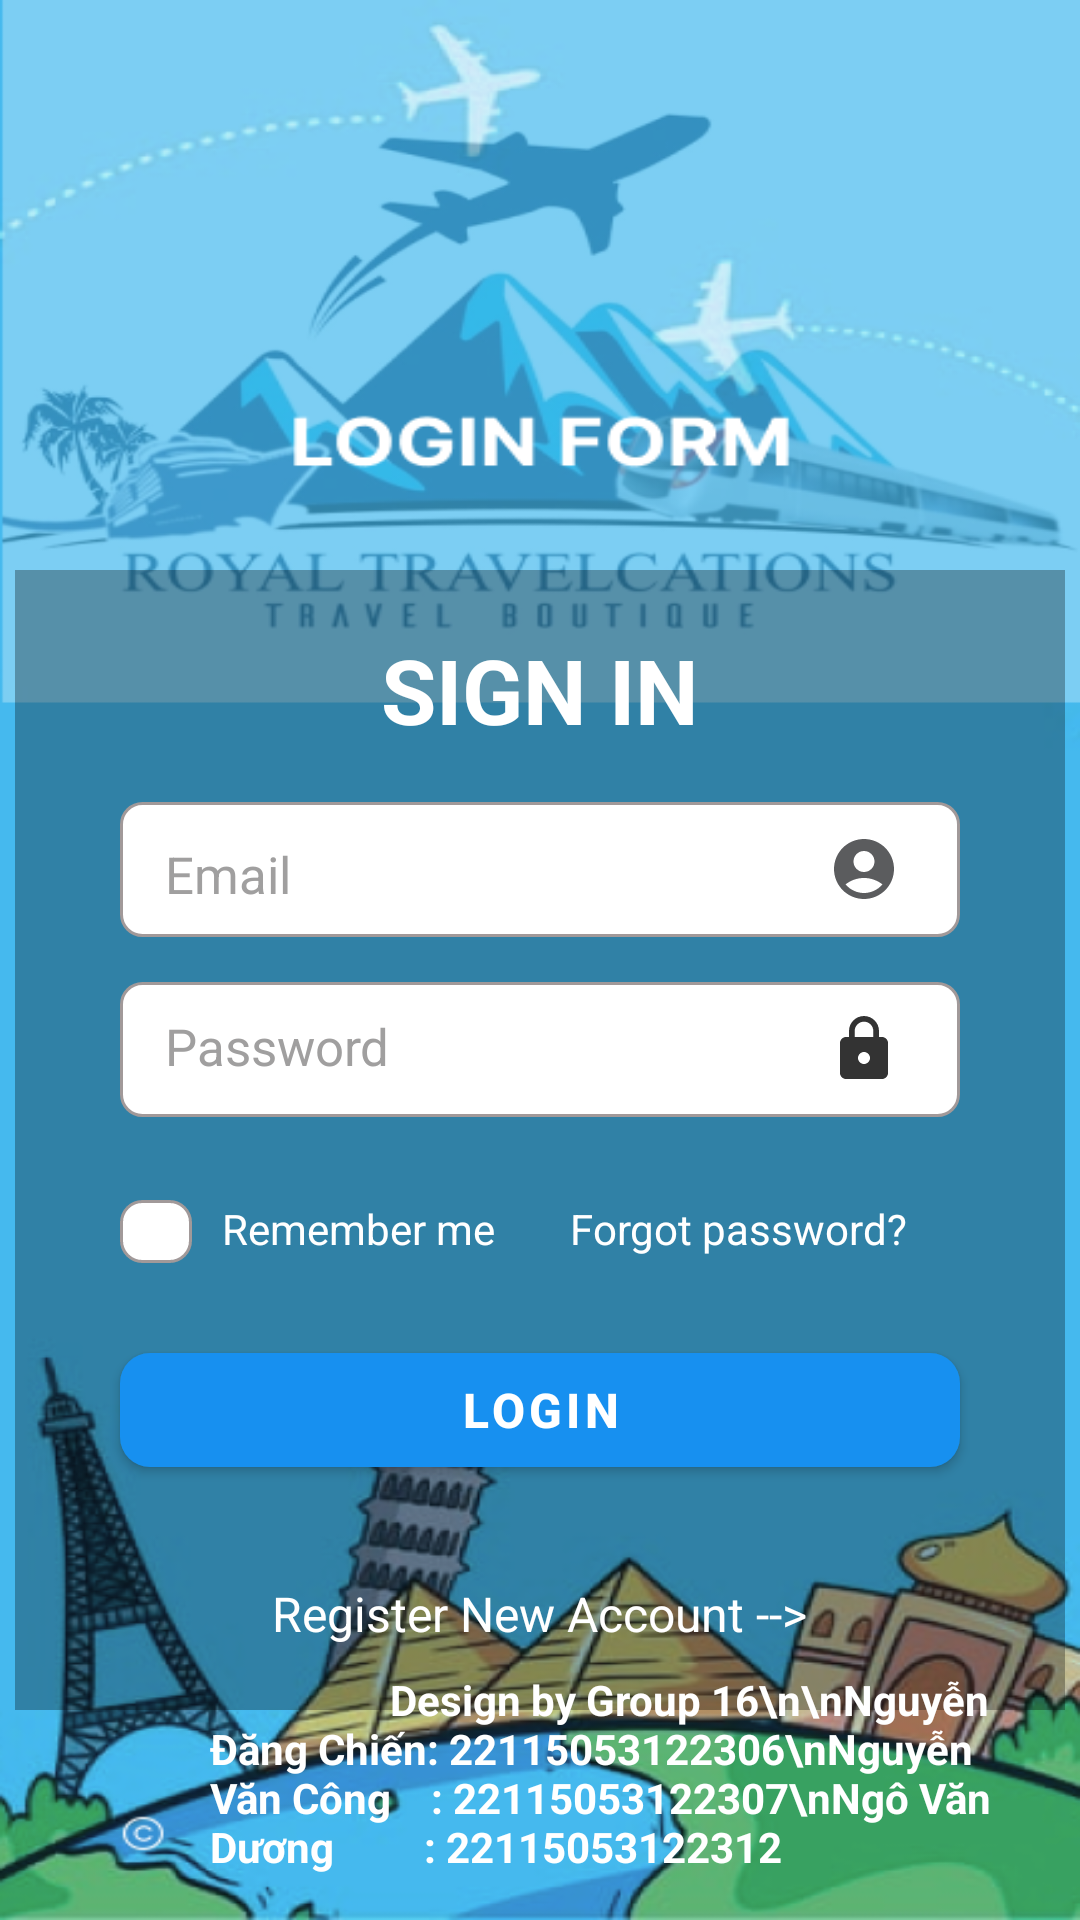

Where to tap for icons on this 1080px x 1920px app screen, as point (x, y):
account circle: point (864, 869)
lock: point (864, 1047)
